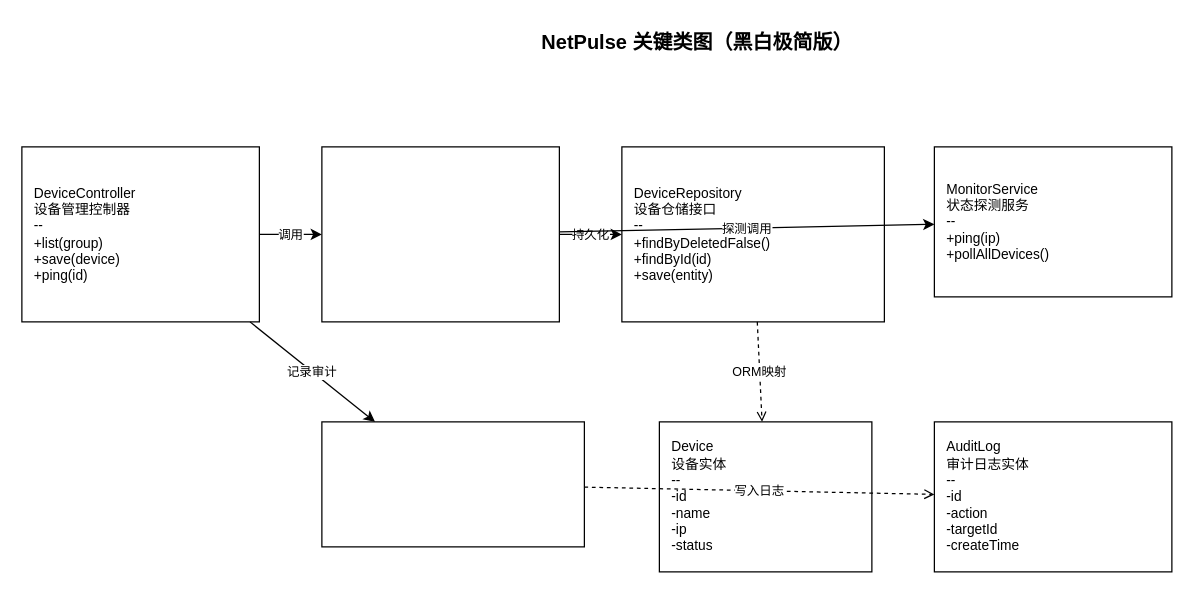
Image size: 1194x594. Some labels were removed from this diagram. The shapes that lost their labels are listed below. From the top down, each one's box as (x1, y1, x2, y2) in pixels, then its label:
(321, 146, 559, 322): DeviceService 设备业务服务 -- +findAll(group) +save(device) +pingDevice(id)
(321, 421, 584, 547): AuditService 审计服务 -- +log(action,target,id,detail)
